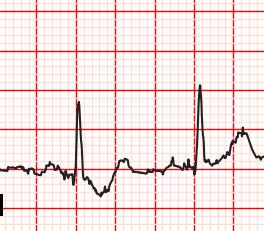T inversion: (82, 155, 130, 200)
